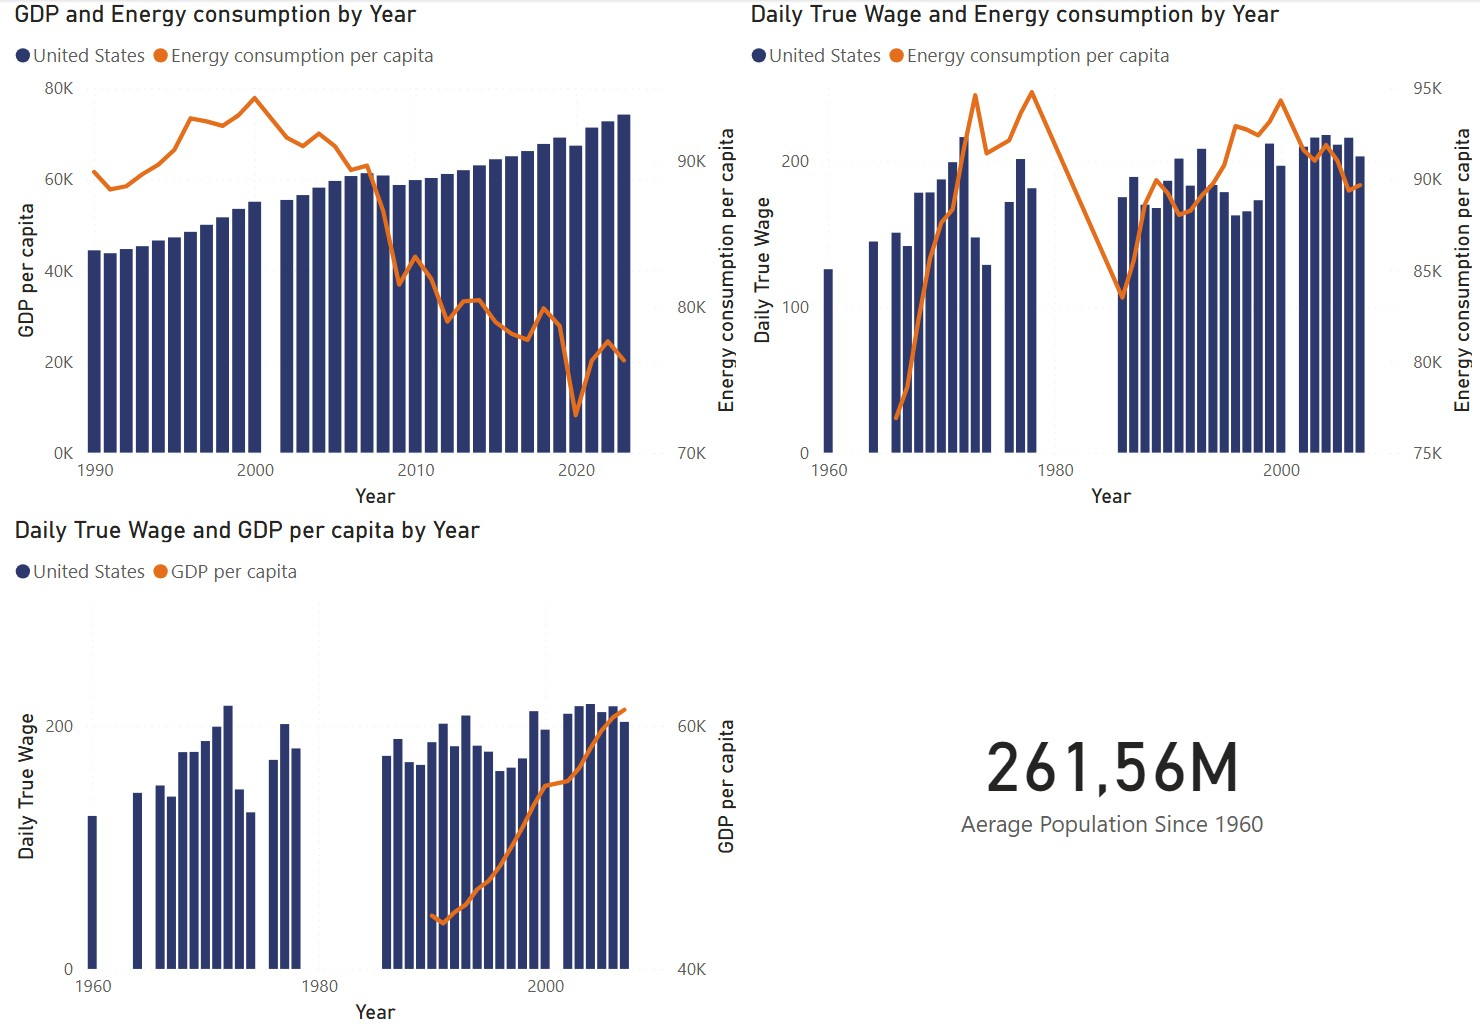

The page's visual inventory and layout, read from the dashboard file:
{"tool":"powerbi","page":{"name":"US","canvas":[1280,720],"ordinal":2},"visuals":[{"type":"lineStackedColumnComboChart","title":"GDP and Energy consumption by Year","fields":{"Category":["SUMMARY_TABLE.year"],"Series":["SUMMARY_TABLE.country"],"Y":["Sum(SUMMARY_TABLE.gdp_per_capita)"],"Y2":["Sum(SUMMARY_TABLE.per_capita_energy_consumption)"]},"box":[126.8,0,513.1,359.5],"z":0},{"type":"lineStackedColumnComboChart","title":"Daily True Wage and Energy consumption by Year","fields":{"Category":["SUMMARY_TABLE.year"],"Series":["SUMMARY_TABLE.country"],"Y":["Sum(SUMMARY_TABLE.daily_true_wage)"],"Y2":["Sum(SUMMARY_TABLE.per_capita_energy_consumption)"]},"box":[639.9,0,513.1,359.5],"z":1000},{"type":"lineStackedColumnComboChart","title":"Daily True Wage and GDP per capita by Year","fields":{"Category":["SUMMARY_TABLE.year"],"Series":["SUMMARY_TABLE.country"],"Y":["Sum(SUMMARY_TABLE.daily_true_wage)"],"Y2":["Sum(SUMMARY_TABLE.gdp_per_capita)"]},"box":[126.5,359.7,513.4,359.7],"z":2000},{"type":"card","fields":{"Values":["SUMMARY_TABLE.Avg Population Post 1959"]},"box":[640.3,359.7,513.2,359.7],"z":3000}]}

Visuals, with their boxes on the page's 1280x720 design canvas (x1, y1, x2, y2). These are canvas units, not pixel positions in the 1480x1025 screenshot, which may show the page scaled, cropped or inside an application window:
"GDP and Energy consumption by Year" lineStackedColumnComboChart: l=127, t=0, r=640, b=360
"Daily True Wage and Energy consumption by Year" lineStackedColumnComboChart: l=640, t=0, r=1153, b=360
"Daily True Wage and GDP per capita by Year" lineStackedColumnComboChart: l=126, t=360, r=640, b=719
card - SUMMARY_TABLE.Avg Population Post 1959: l=640, t=360, r=1154, b=719
